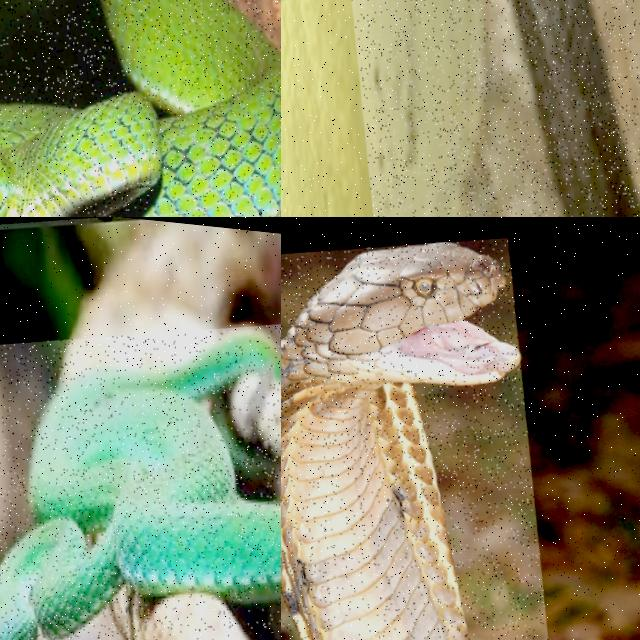Naja siamensis: (511, 0, 639, 216)
Ophiophagus hannah: (281, 243, 519, 639)
Trimeresurus macrops: (0, 327, 280, 639), (0, 0, 280, 216)
